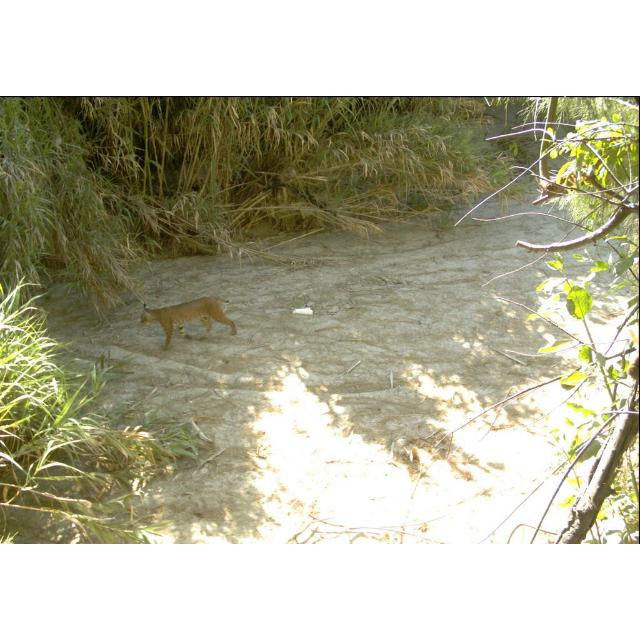animals: (136, 294, 240, 356)
